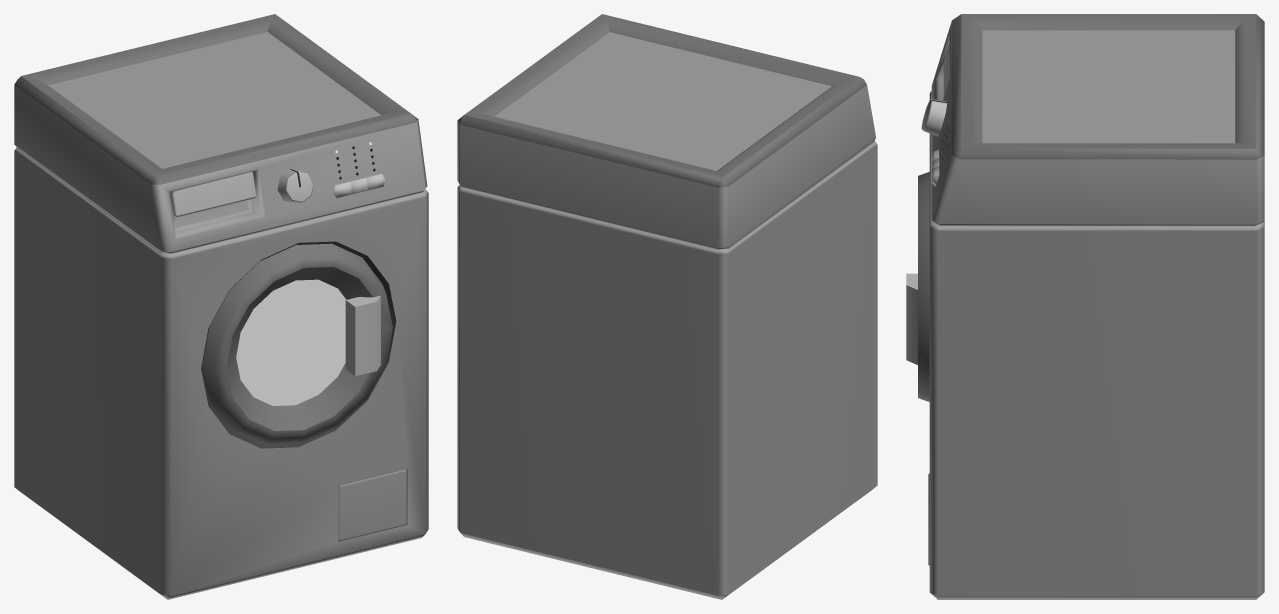
File: bathroom_027.fbx
The picture shows the model from 3 angles, left to right: view 1: azimuth 30°, elevation 25°; view 2: azimuth 150°, elevation 25°; view 3: azimuth 270°, elevation 25°; orthographic projection. The views are drawn at different scales.
Parts seen in each view (by area): view 1: bathroom_027; view 2: bathroom_027; view 3: bathroom_027.
Boxes of the visible parts, x1,y1,x2,y2 form: bathroom_027: (14,14,428,599); bathroom_027: (457,14,877,599); bathroom_027: (906,14,1264,599).
Bounding box in the file's own units: 78.58 × 84.01 × 117.
